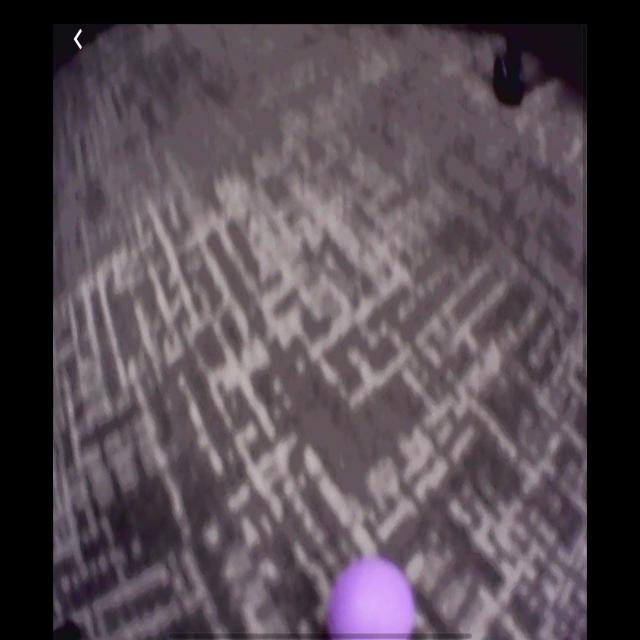ball: (327, 555, 418, 639)
